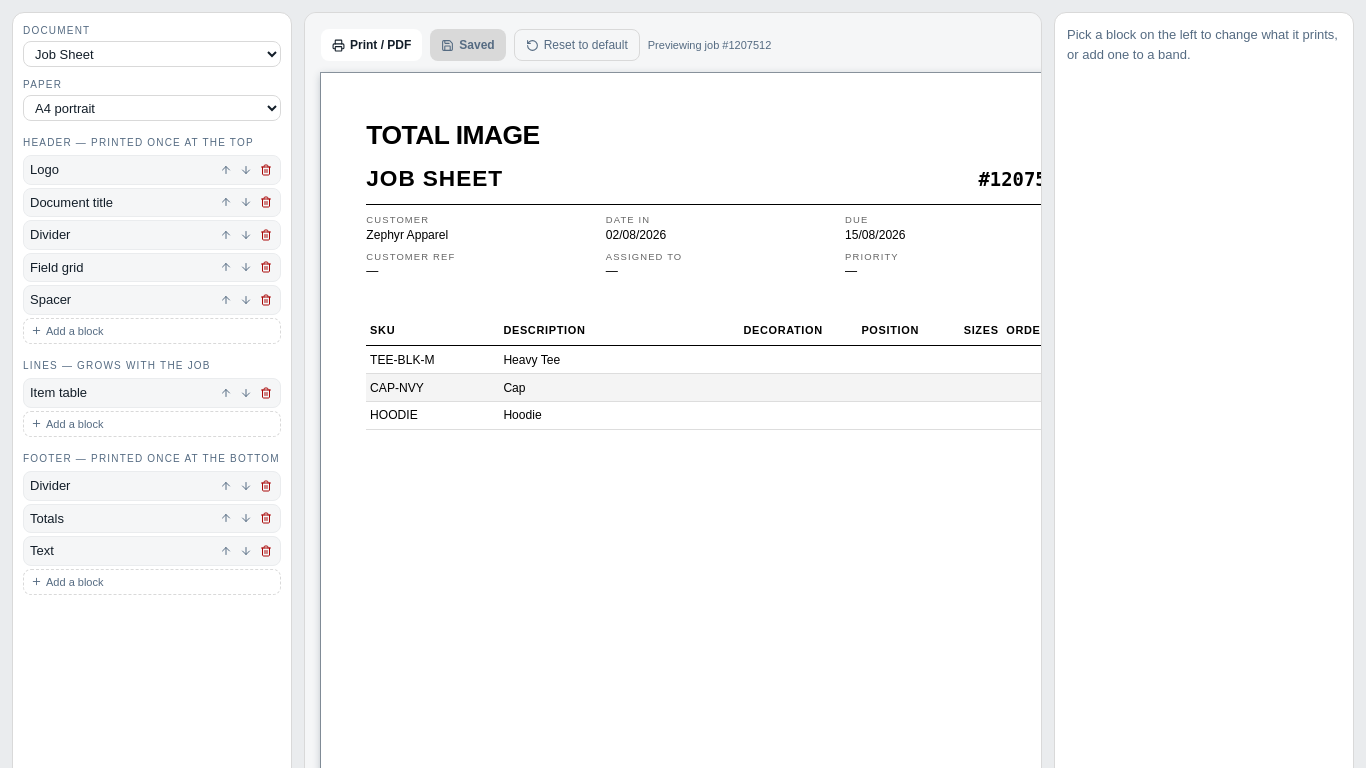
Test: the designer › switching document type loads that document, not the last one
The width and height of the screenshot is (1366, 768).
Check: the text "Previewing job #1207512" is shown, box [648,37,771,53]
Select "Consignment Note" in the dropdown labelled "Document". click: {"x": 152, "y": 54}
box: [23,41,281,67]
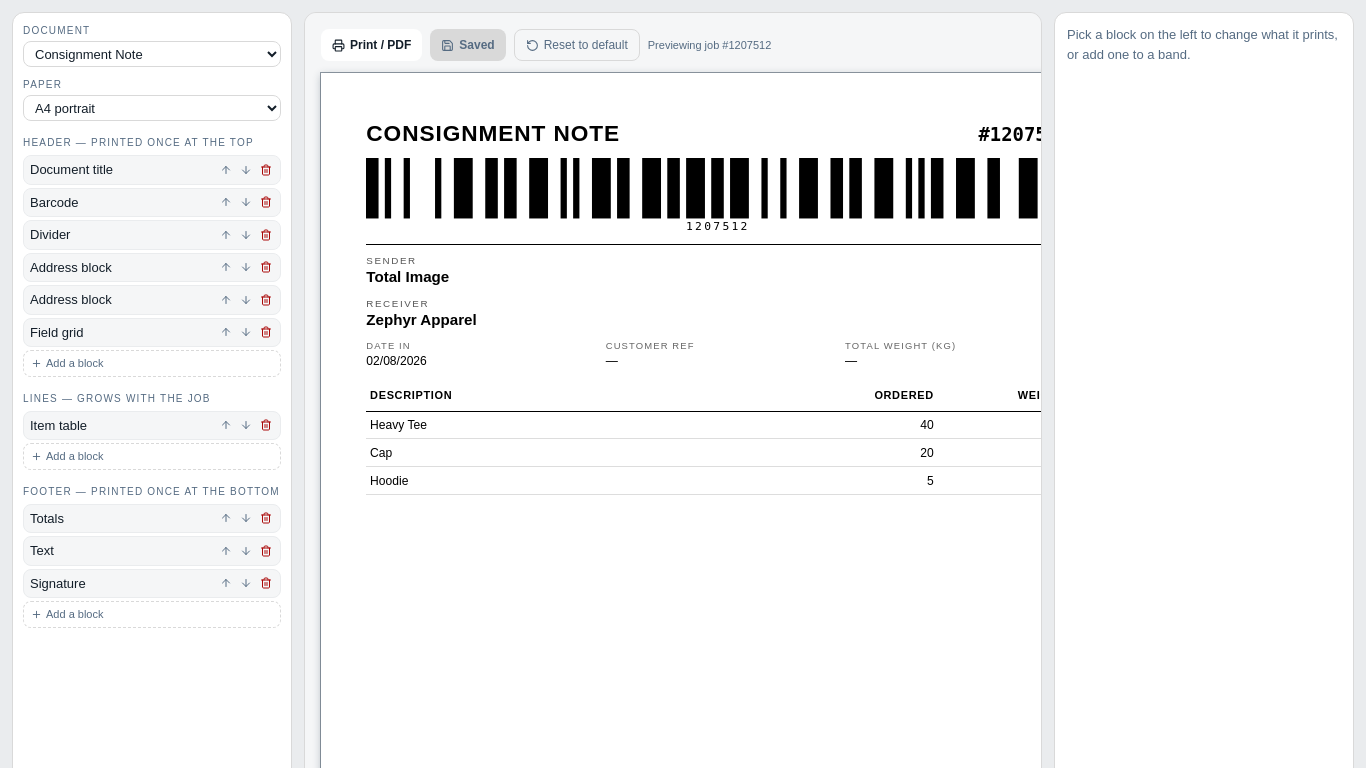
Check: the text "CONSIGNMENT NOTE" is shown, box [366,118,620,149]
Check: the text "JOB SHEET" is gone
